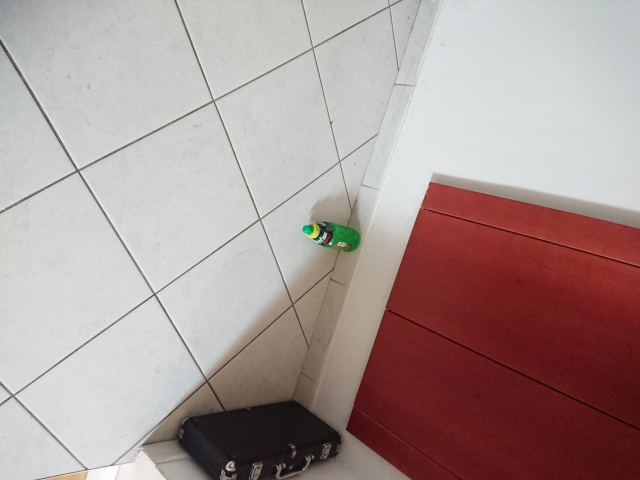Vindi Iso Sport Lemon-Grapefruit 500mL: (300, 219, 363, 255)
